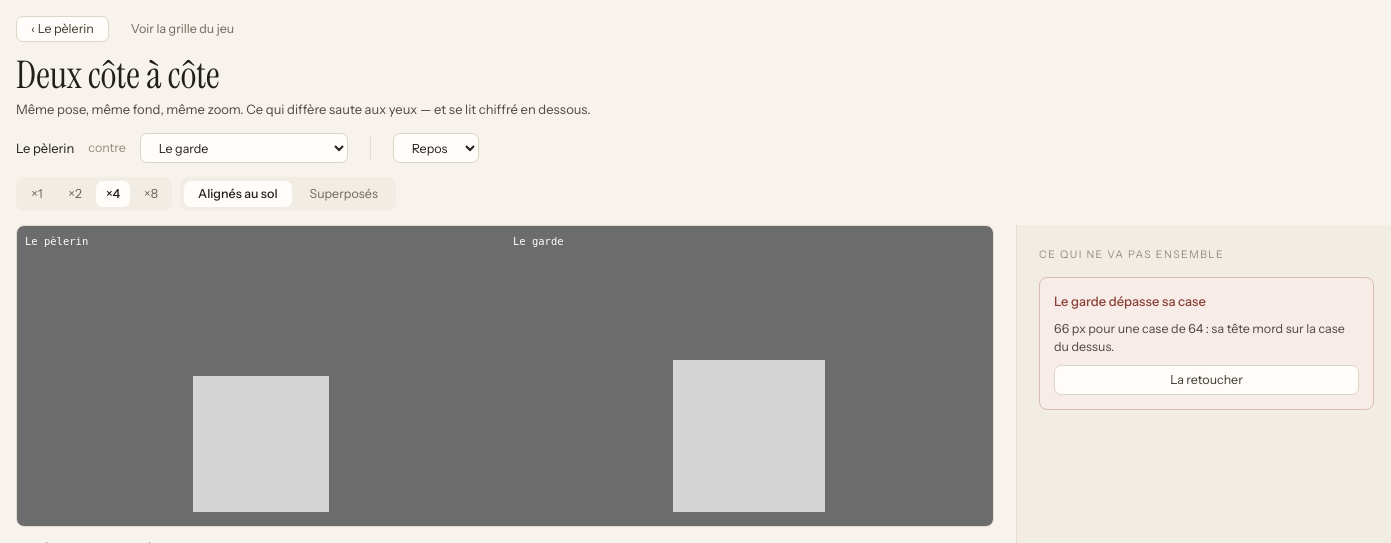
Test: deux animations côte à côte › elles tournent ensemble, chacune à sa cadence
The width and height of the screenshot is (1391, 543).
(page scrolled)
Select "Le pèlerin — ses animations" in the dropdown named "Comparer avec" at {"x": 244, "y": 148}, box x1=140 y1=133 x2=348 y2=163
Wait 128 ms
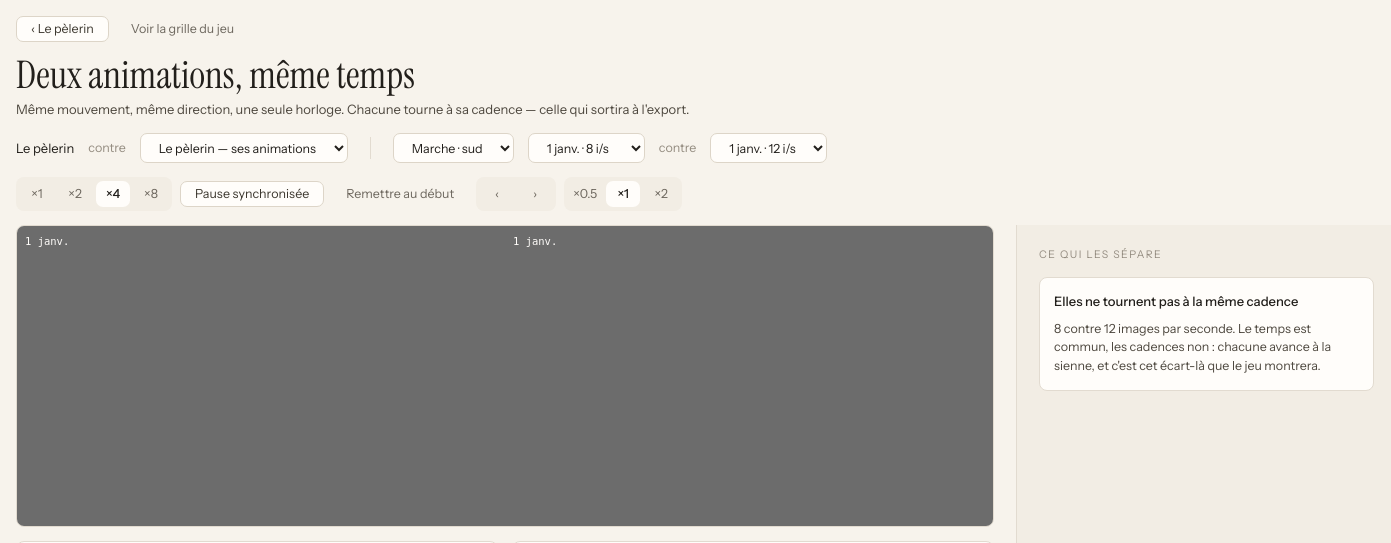
Check: the heading "Deux animations, même temps" is shown, box x1=16 y1=50 x2=415 y2=100
